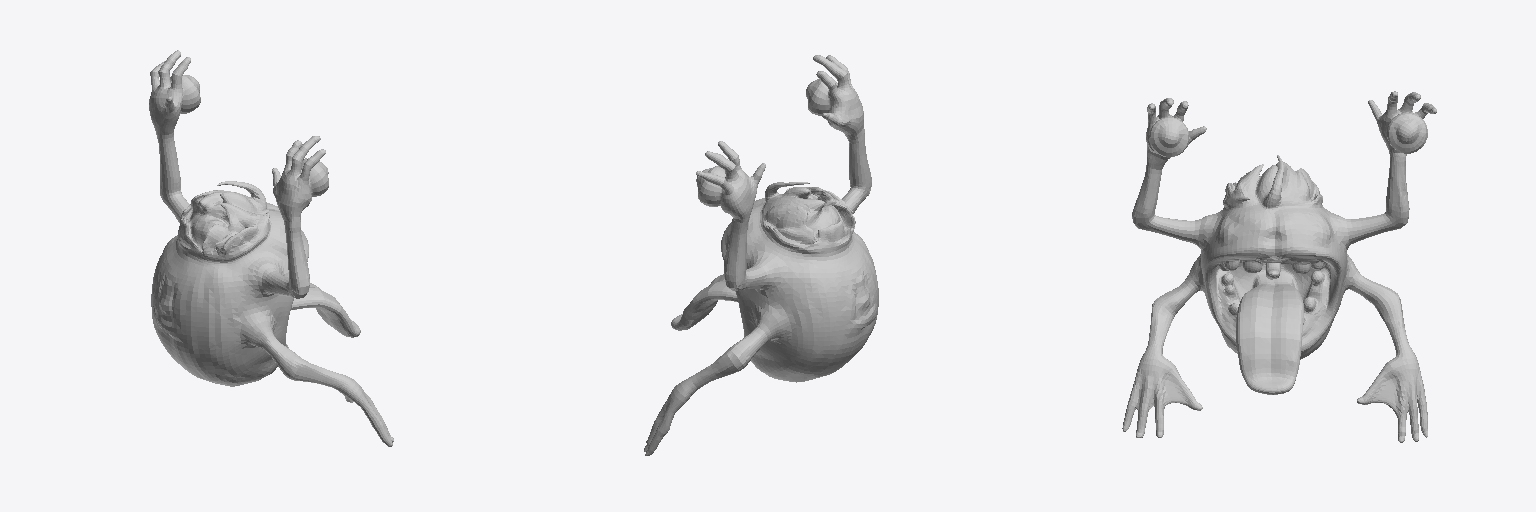
File: enemyy.obj
3 views of the same model, side by side, from view 1: azimuth 30°, elevation 25°; view 2: azimuth 150°, elevation 25°; view 3: azimuth 270°, elevation 25° (orthographic).
Parts seen in each view (by area): view 1: tripo_node_524bdfd8-1408-45d5-8260-d668b1ec65d2; view 2: tripo_node_524bdfd8-1408-45d5-8260-d668b1ec65d2; view 3: tripo_node_524bdfd8-1408-45d5-8260-d668b1ec65d2.
Part boxes in pixels (left/top/right/bottom): tripo_node_524bdfd8-1408-45d5-8260-d668b1ec65d2: left=149, top=50, right=393, bottom=446; tripo_node_524bdfd8-1408-45d5-8260-d668b1ec65d2: left=644, top=55, right=878, bottom=455; tripo_node_524bdfd8-1408-45d5-8260-d668b1ec65d2: left=1122, top=91, right=1436, bottom=442.
Bounding box in the file's own units: 0.6001 × 0.9483 × 0.8498.